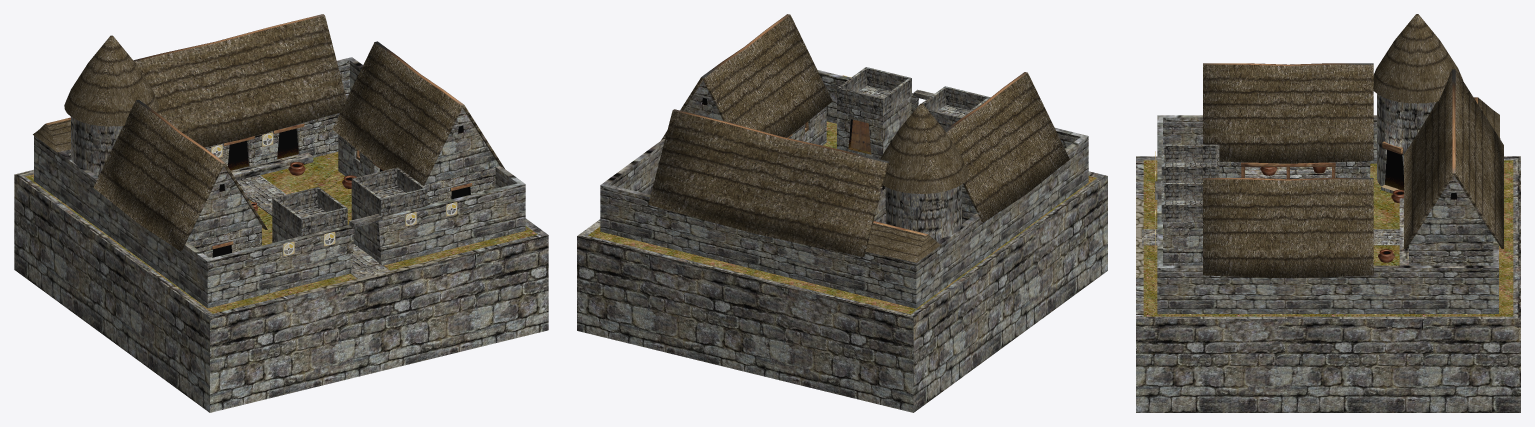
The model's file is inca_tambo.dae.
3 renders of one model, left to right at view 1: azimuth 30°, elevation 25°; view 2: azimuth 150°, elevation 25°; view 3: azimuth 270°, elevation 25°, orthographic.
Visible parts, largest first — view 1: tambo; view 2: tambo; view 3: tambo.
Part boxes in pixels (x1,y1,x2,y2): tambo: [14, 14, 548, 412]; tambo: [577, 14, 1107, 412]; tambo: [1136, 14, 1520, 412].
Size of the model in its own units: 33.27 by 33.27 by 24.53.
